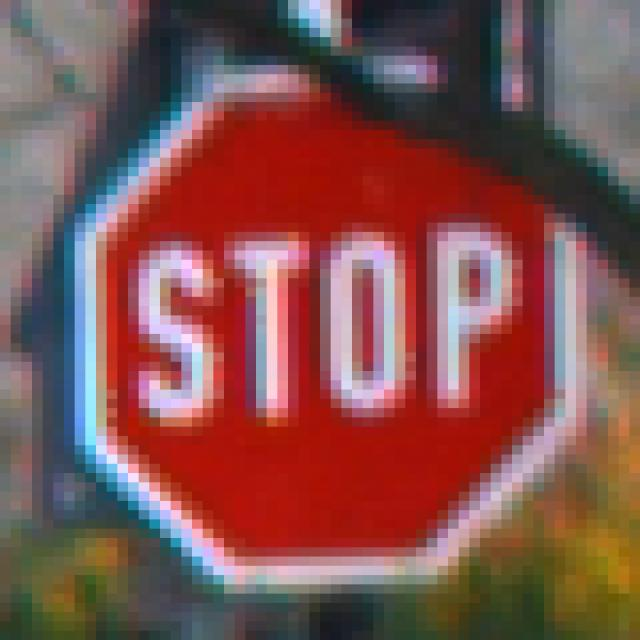STOP: (65, 66, 588, 585)
